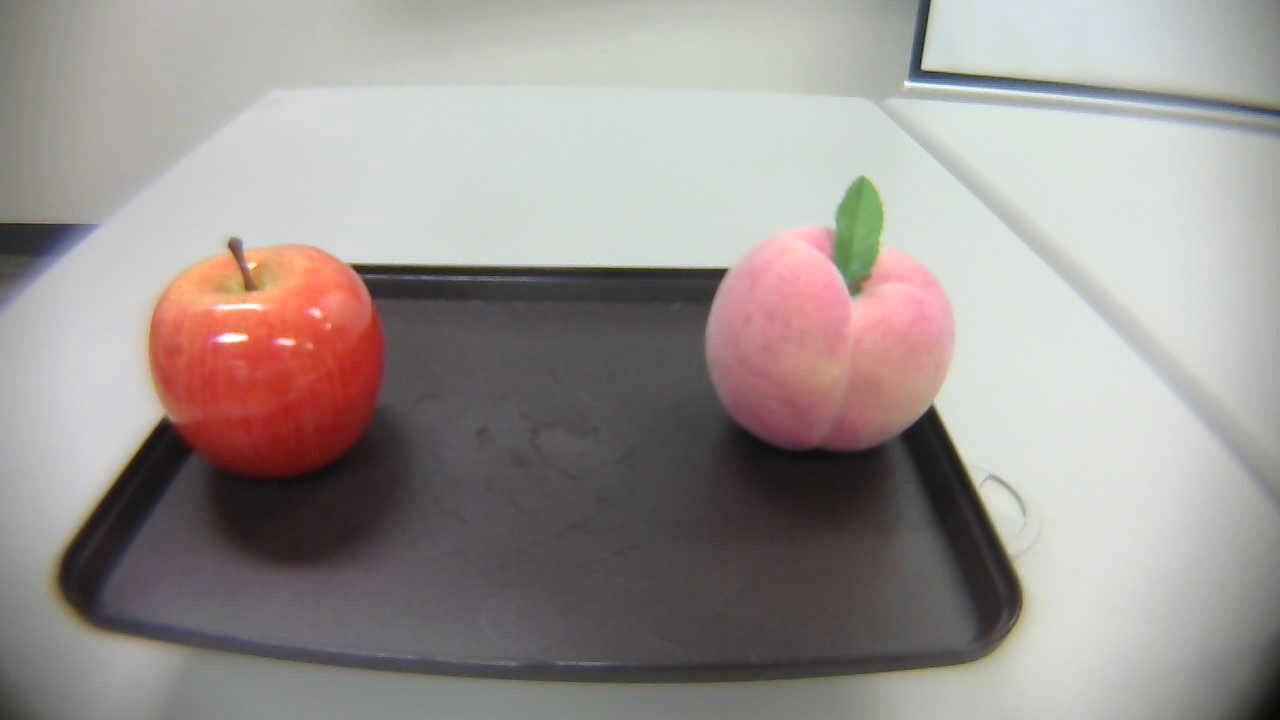peach: (689, 171, 954, 453)
red apple: (136, 234, 401, 476)
